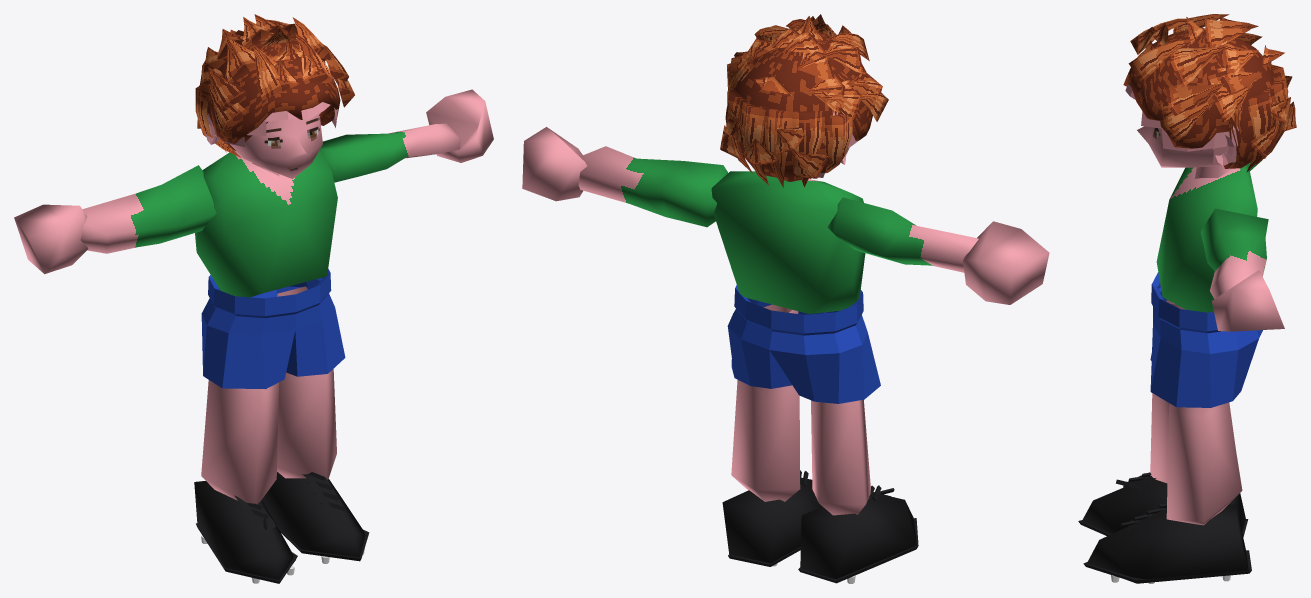
File: 06-espetado-gel_ruivo.glb
The picture shows the model from 3 angles, left to right: view 1: azimuth 30°, elevation 25°; view 2: azimuth 150°, elevation 25°; view 3: azimuth 270°, elevation 25°; orthographic projection. The views are drawn at different scales.
Parts seen in each view (by area): view 1: Camisa_Tronco, Cabelo, Bermuda, Perna.R, Braco.R, Perna.L, Chuteira.R, Chuteira.L, Braco.L, Mao.R, Cabeca, Mao.L (+2 smaller); view 2: Cabelo, Camisa_Tronco, Bermuda, Perna.L, Braco.L, Chuteira.R, Perna.R, Braco.R, Mao.R, Chuteira.L, Mao.L, Chuteira_Sola.R; view 3: Cabelo, Bermuda, Chuteira.L, Camisa_Tronco, Perna.L, Braco.L, Mao.L, Chuteira.R, Perna.R, Cabeca, Couro_Cabeludo, Chuteira_Sola.L (+3 smaller).
Part boxes in pixels (bbox=[...]): Camisa_Tronco: bbox=[195, 150, 337, 297]; Cabelo: bbox=[195, 14, 354, 157]; Bermuda: bbox=[201, 269, 345, 389]; Perna.R: bbox=[201, 380, 278, 504]; Braco.R: bbox=[80, 165, 216, 253]; Perna.L: bbox=[277, 286, 336, 479]; Chuteira.R: bbox=[194, 481, 295, 579]; Chuteira.L: bbox=[262, 472, 365, 557]; Braco.L: bbox=[319, 123, 461, 182]; Mao.R: bbox=[14, 204, 88, 274]; Cabeca: bbox=[230, 113, 322, 178]; Mao.L: bbox=[426, 89, 493, 162]; Cabelo: bbox=[720, 14, 888, 187]; Camisa_Tronco: bbox=[711, 171, 865, 313]; Bermuda: bbox=[727, 285, 880, 403]; Perna.L: bbox=[731, 304, 800, 501]; Braco.L: bbox=[578, 146, 727, 227]; Chuteira.R: bbox=[800, 492, 916, 579]; Perna.R: bbox=[811, 399, 870, 515]; Braco.R: bbox=[827, 197, 978, 272]; Mao.R: bbox=[963, 221, 1049, 304]; Chuteira.L: bbox=[722, 477, 822, 563]; Mao.L: bbox=[522, 127, 586, 201]; Chuteira_Sola.R: bbox=[798, 518, 918, 583]; Cabelo: bbox=[1123, 14, 1296, 172]; Bermuda: bbox=[1150, 272, 1262, 407]; Chuteira.L: bbox=[1087, 504, 1248, 583]; Camisa_Tronco: bbox=[1156, 164, 1257, 312]; Perna.L: bbox=[1166, 402, 1242, 525]; Braco.L: bbox=[1201, 208, 1268, 298]; Mao.L: bbox=[1211, 270, 1284, 331]; Chuteira.R: bbox=[1082, 476, 1245, 533]; Perna.R: bbox=[1150, 300, 1235, 483]; Cabeca: bbox=[1137, 126, 1221, 167]; Couro_Cabeludo: bbox=[1125, 84, 1238, 168]; Chuteira_Sola.L: bbox=[1083, 550, 1251, 583].
Size of the model in its own units: 0.4523 by 0.4669 by 0.171.
Materials: 3 (3 with a texture image).
